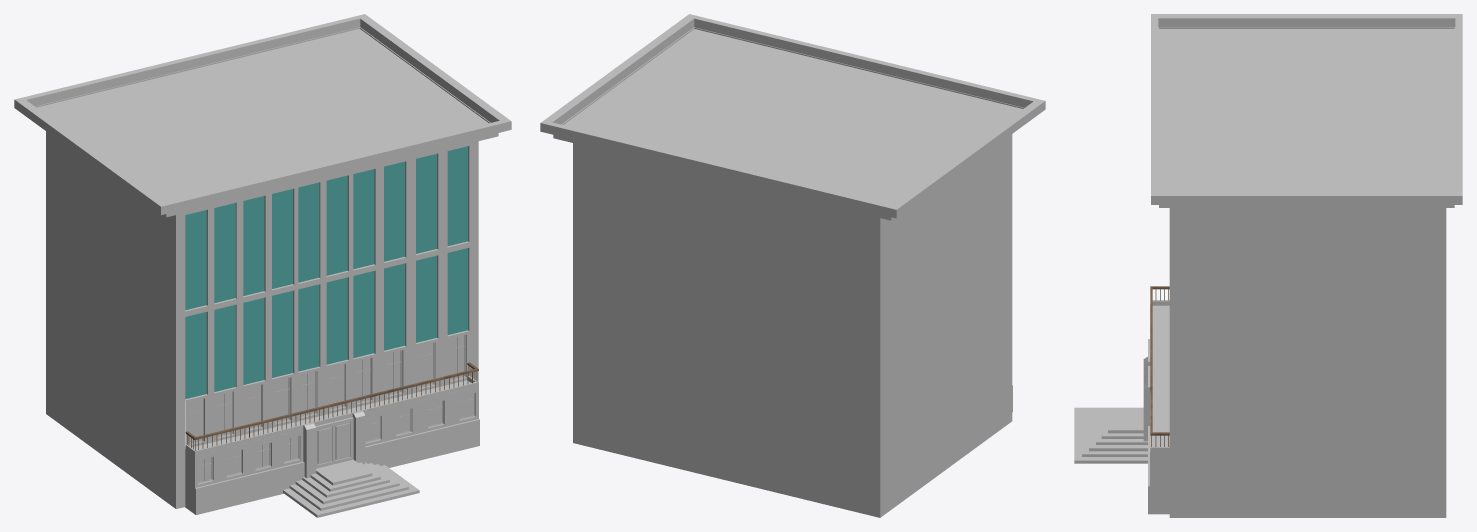
File: Hotel.fbx
3 views of the same model, side by side, from view 1: azimuth 30°, elevation 25°; view 2: azimuth 150°, elevation 25°; view 3: azimuth 270°, elevation 25° (orthographic). The views are drawn at different scales.
Parts seen in each view (by area): view 1: polySurface258, polySurface263, polySurface261, polySurface260, pCube5, polySurface327, polySurface250, polySurface262; view 2: polySurface260, polySurface258, polySurface263; view 3: polySurface260, polySurface258, polySurface263, pCube5, polySurface327.
Boxes of the visible parts, <box> form: polySurface258: <box>14,14,511,217</box>; polySurface263: <box>173,141,479,514</box>; polySurface261: <box>185,146,467,398</box>; polySurface260: <box>46,131,172,506</box>; pCube5: <box>283,459,419,517</box>; polySurface327: <box>185,362,478,450</box>; polySurface250: <box>185,375,478,455</box>; polySurface262: <box>315,417,353,468</box>; polySurface260: <box>573,136,1009,517</box>; polySurface258: <box>540,14,1045,220</box>; polySurface263: <box>1009,134,1012,422</box>; polySurface260: <box>1176,208,1446,517</box>; polySurface258: <box>1151,14,1462,207</box>; polySurface263: <box>1143,208,1175,517</box>; pCube5: <box>1074,407,1147,463</box>; polySurface327: <box>1150,286,1169,446</box>.
Bounding box in the file's own units: 151 × 130 × 136.
